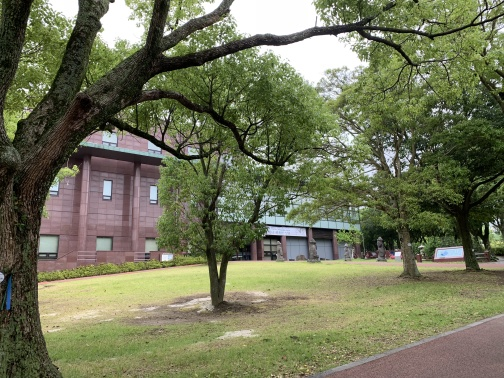Museum: (47, 104, 220, 280), (213, 169, 375, 259)
